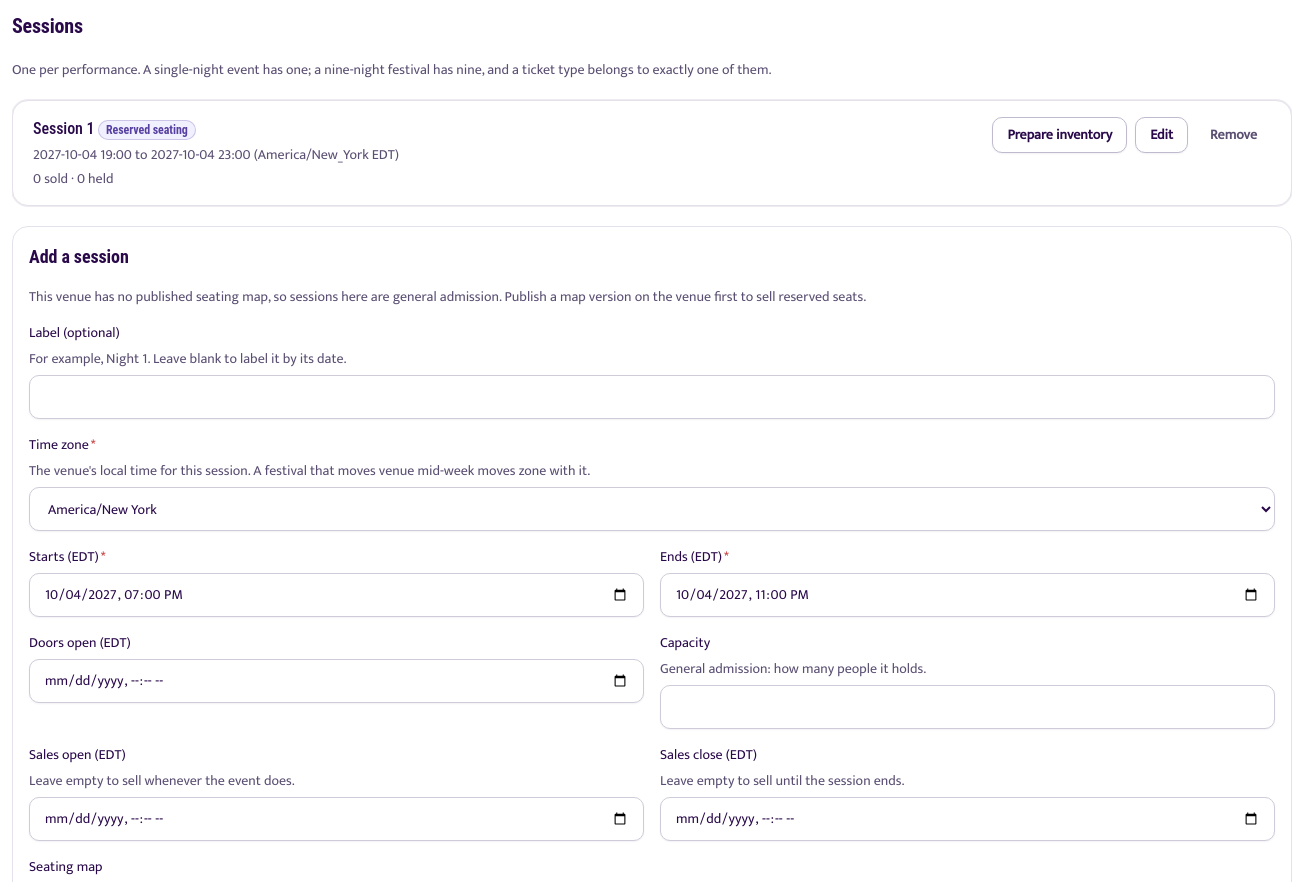
Test case: preparing inventory › says how many seats were matched to a reserved ticket type
This screenshot has width=1292, height=882.
Click the button "Prepare inventory" at (1060, 135), box [992,117,1127,153]
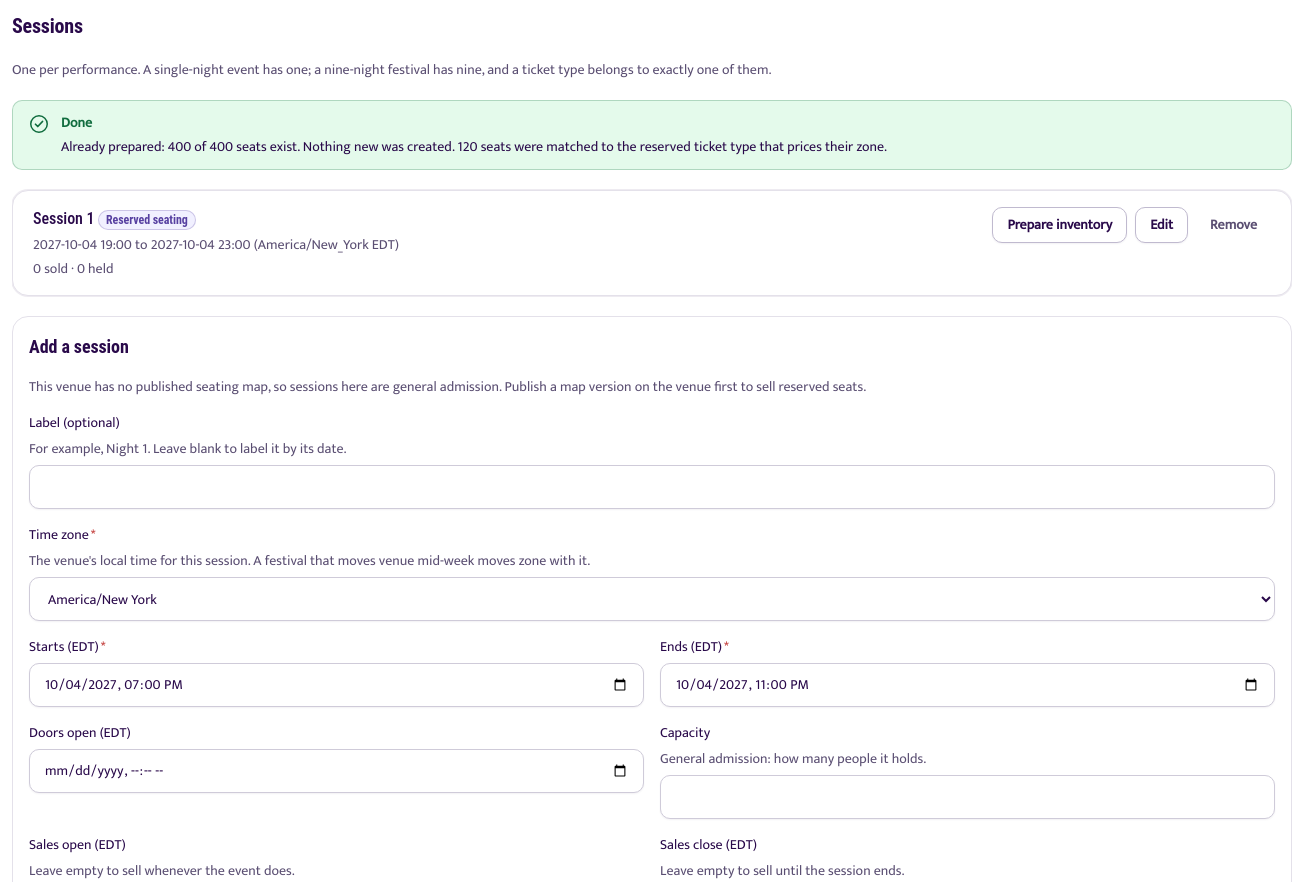
Result: the text "Already prepared: 400 of 400 seats exist. Nothing new was created. 120 seats were matched" is shown at [61,135,887,158]
